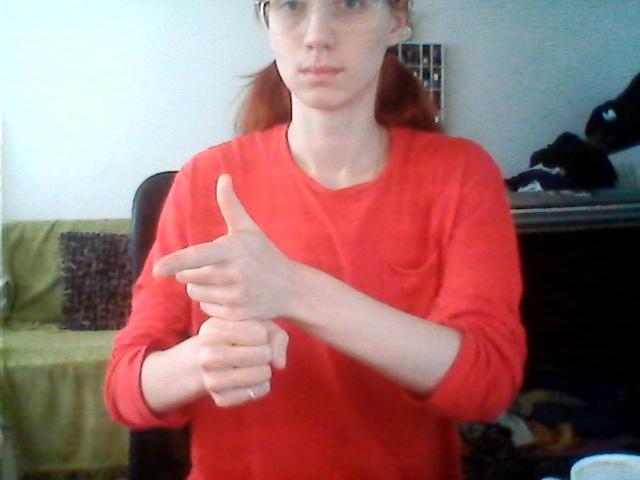kamera: (151, 172, 299, 422)
